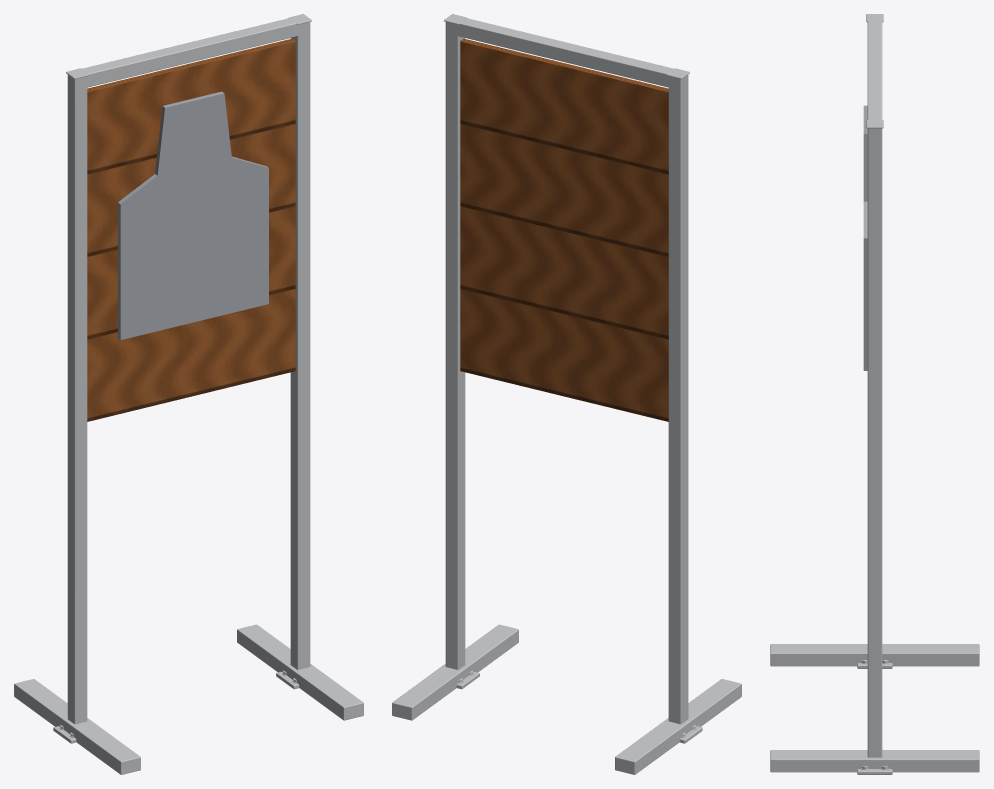
The model's file is fps-weapon-set-and-firing-range-silhouette-target-69632afb__19499.glb.
3 views of the same model, side by side, from view 1: azimuth 30°, elevation 25°; view 2: azimuth 150°, elevation 25°; view 3: azimuth 270°, elevation 25° (orthographic). The views are drawn at different scales.
Visible parts, largest first — view 1: silhouette-target; view 2: silhouette-target; view 3: silhouette-target.
Part boxes in pixels (left/top/right/bottom): silhouette-target: left=14, top=14, right=363, bottom=774; silhouette-target: left=392, top=14, right=741, bottom=774; silhouette-target: left=770, top=14, right=979, bottom=774.
Bounding box in the file's own units: 0.6841 × 1.7 × 0.5.
Materials: 3 (1 with a texture image).
